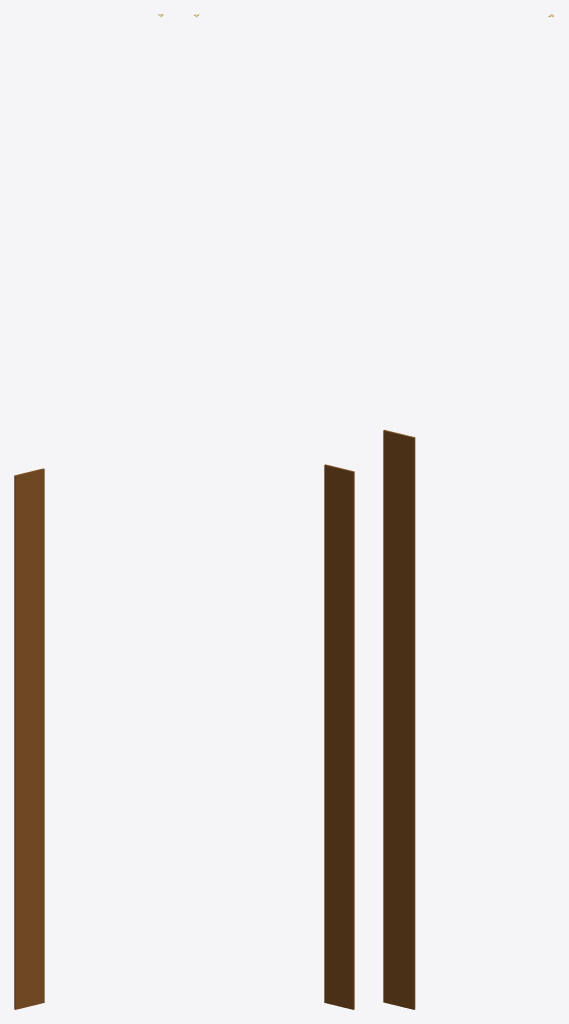
The model's file is calcadas.fbx.
3 renders of one model, left to right at view 1: azimuth 30°, elevation 25°; view 2: azimuth 150°, elevation 25°; view 3: azimuth 330°, elevation 25°, orthographic. The views are drawn at different scales.
Visible parts, largest first — view 1: ROAD.003; view 2: ROAD.003; view 3: ROAD.003.
Boxes of the visible parts, left/top/right/bottom form: ROAD.003: left=14, top=468, right=44, bottom=1009; ROAD.003: left=324, top=464, right=354, bottom=1009; ROAD.003: left=383, top=429, right=415, bottom=1009.
Bounding box in the file's own units: 275461 × 1634234 × 23961.
